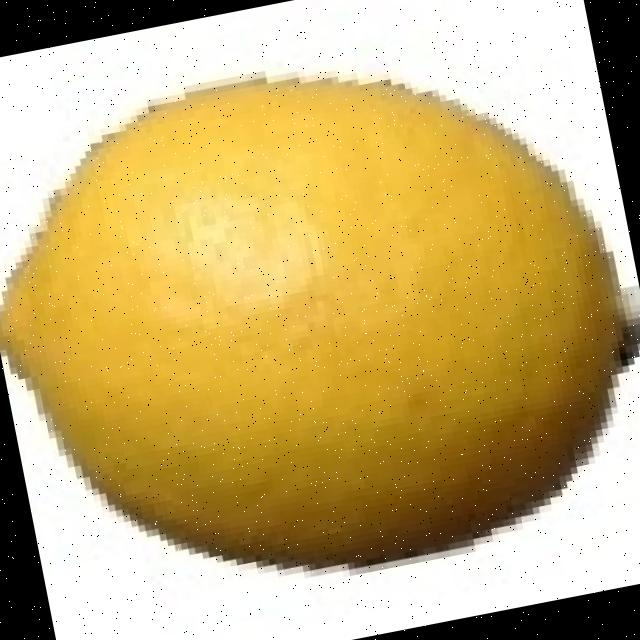lemon: (0, 80, 637, 568)
